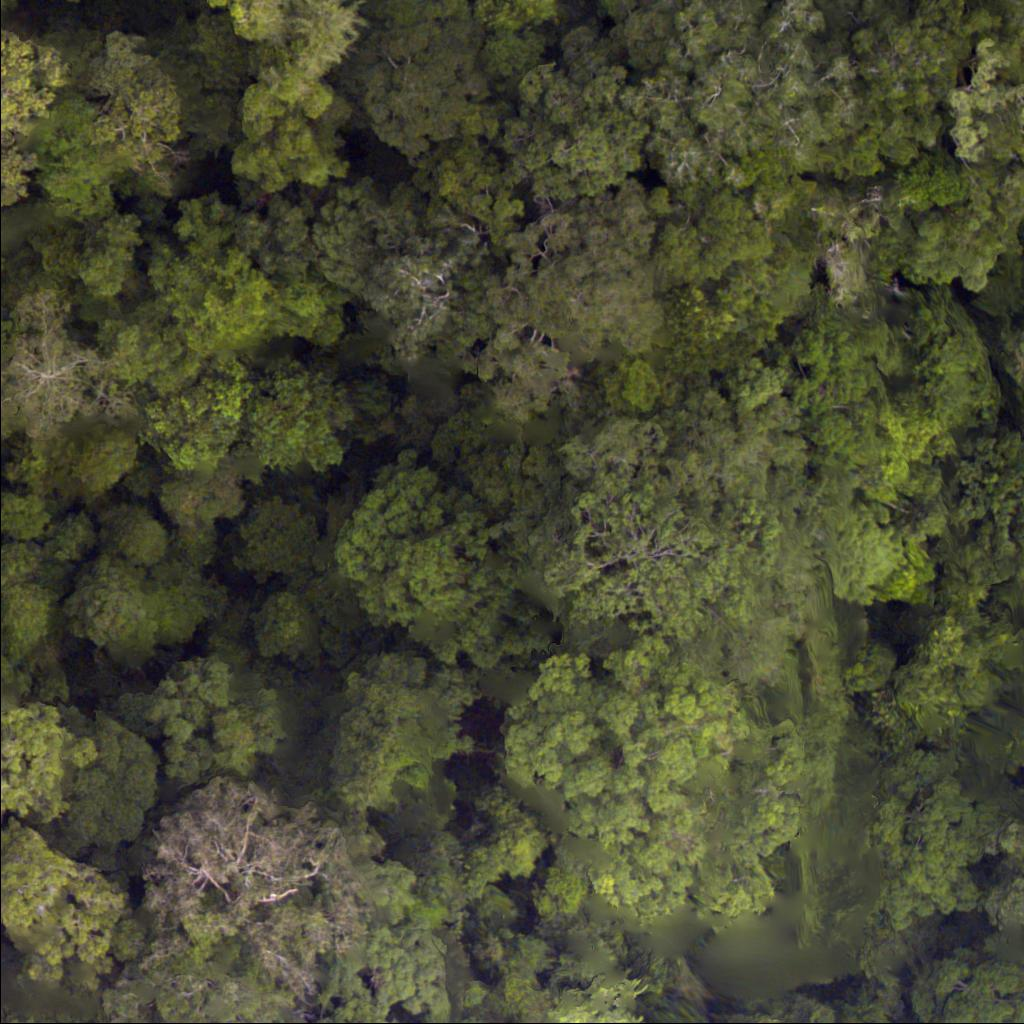crown: (468, 646, 839, 944), (133, 780, 375, 989), (321, 475, 525, 689), (347, 0, 480, 160), (330, 662, 465, 818), (150, 662, 309, 785), (50, 570, 222, 676), (0, 846, 137, 967), (0, 305, 116, 431), (87, 960, 303, 1023), (71, 699, 156, 848), (233, 505, 324, 590), (903, 967, 1023, 1023), (847, 1021, 879, 1023), (1021, 507, 1023, 519)
